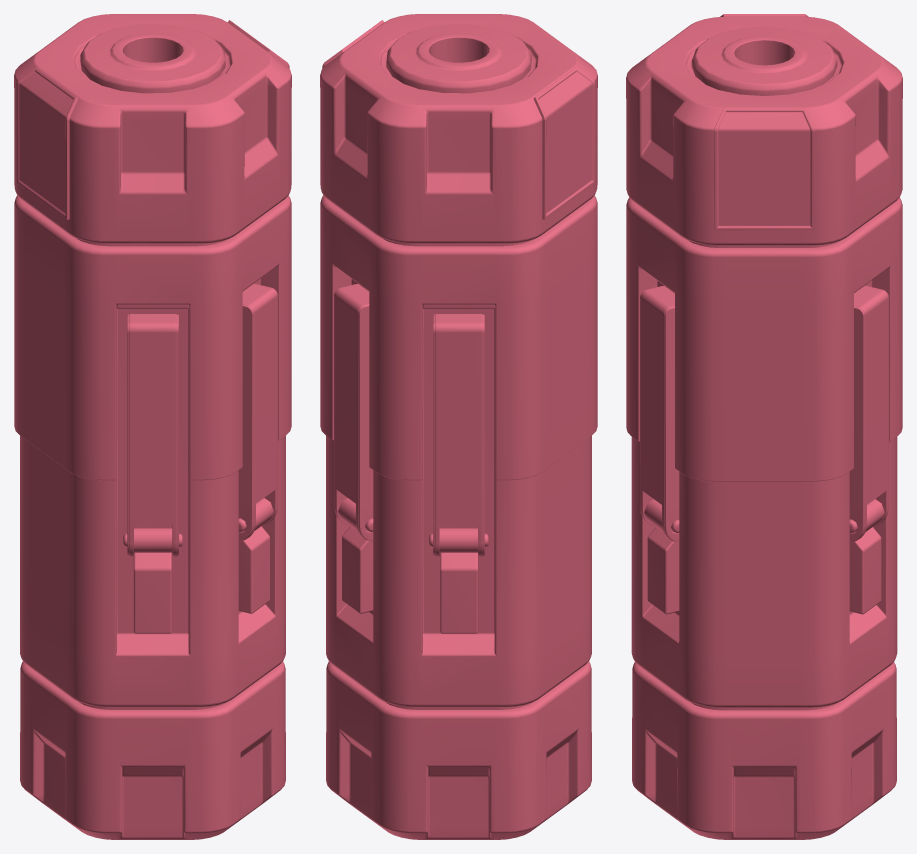
Rendered from SM_Barrel04.fbx.
The picture shows the model from 3 angles, left to right: view 1: azimuth 30°, elevation 25°; view 2: azimuth 150°, elevation 25°; view 3: azimuth 270°, elevation 25°; orthographic projection.
Parts seen in each view (by area): view 1: SM_Barrel04; view 2: SM_Barrel04; view 3: SM_Barrel04.
Part boxes in pixels (x1,y1,x2,y2): SM_Barrel04: (14, 14, 291, 839); SM_Barrel04: (320, 14, 597, 839); SM_Barrel04: (626, 14, 902, 839).
Bounding box in the file's own units: 50.24 × 161 × 54.2.
